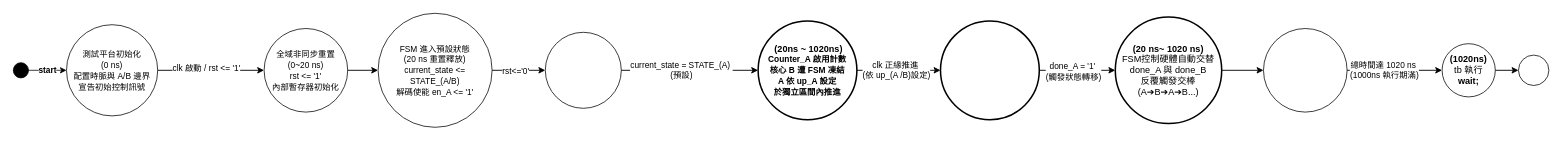
This 1563x141 diagram has some shape labels left out. Here are the shapes that lost their labels. From the top down, the centre of each, then its label:
At (583,70): "(20ns) tb 觸發 rst <= '0'; 釋放重置訊號".
At (989,70): "(20ns ~ 1020ns) Counter_A 抵達邊界 核心 A 觸發終點 done_A <= '1' 向 FSM 發出交棒申請".
At (1305,70): "(1020ns) 1000ns 時間結束 tb 核心激勵測試 全部執行完畢".
